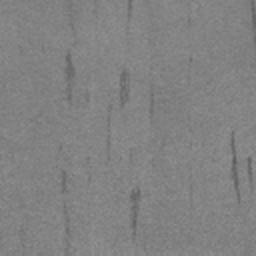Red iron sheet: (230, 131, 241, 204), (65, 52, 75, 101), (130, 189, 141, 230), (120, 69, 129, 107), (61, 171, 68, 193), (247, 157, 253, 182), (127, 0, 133, 19)
